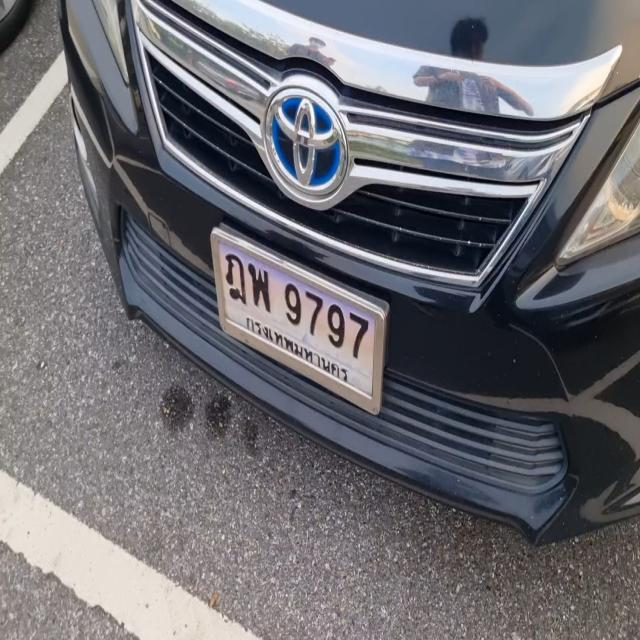license_plate: (207, 210, 387, 418)
